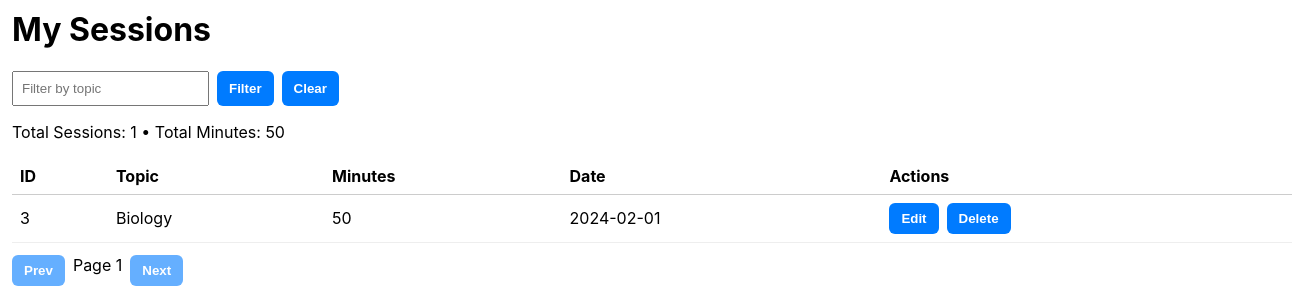
Sessions page › applies topic filter
Expected: the text "Biology" is shown, [108,194,324,242]
Type "phys" into the field with placeholder "Filter by topic".
click(110, 88); type("phys")  # box [12,71,209,106]
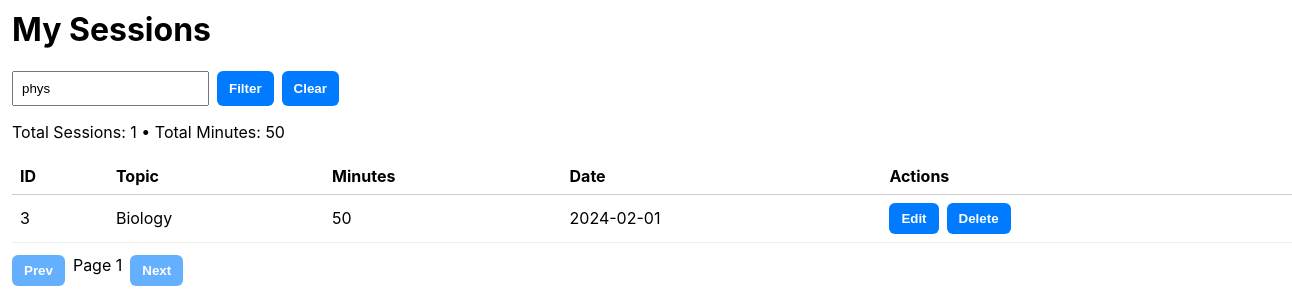
Click the button "Filter".
click(245, 88)  # box [217,71,274,106]
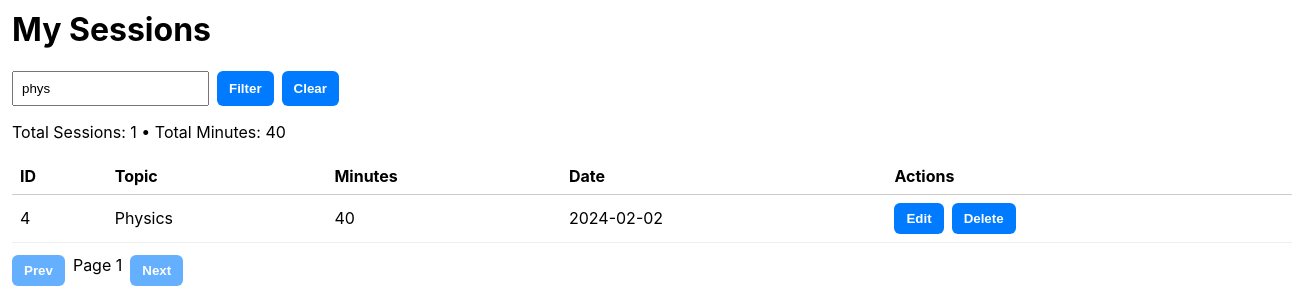
Result: the text "Physics" is shown at [107,194,326,242]
